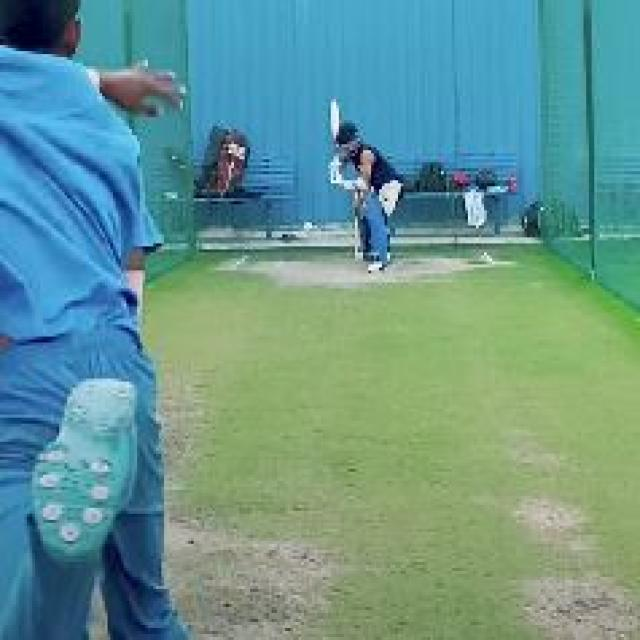ball: (301, 218, 318, 235)
